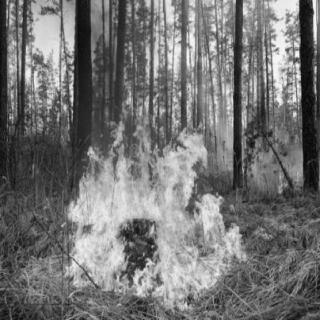Fire: (62, 112, 244, 310), (277, 165, 295, 197)
